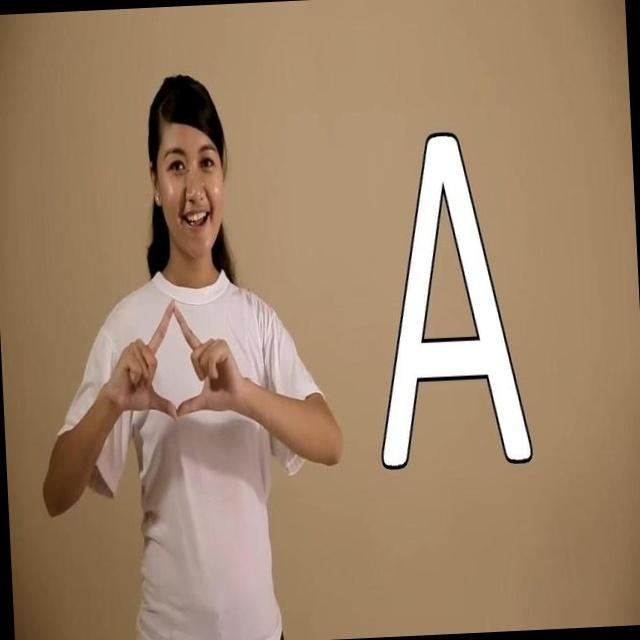A: (84, 293, 263, 455)
